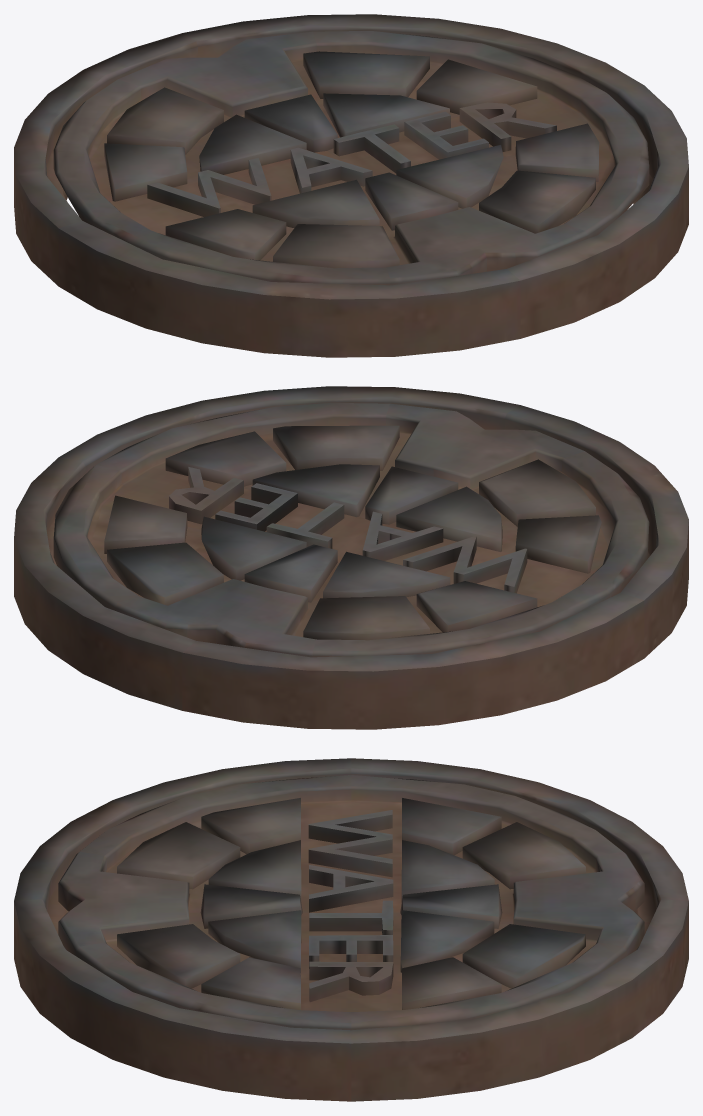
Rendered from water_manhole_cover.glb.
The picture shows the model from 3 angles, top to bottom: view 1: azimuth 30°, elevation 25°; view 2: azimuth 150°, elevation 25°; view 3: azimuth 270°, elevation 25°; orthographic projection.
Parts seen in each view (by area): view 1: water_manhole_cover_frame; view 2: water_manhole_cover_frame; view 3: water_manhole_cover_frame.
Part boxes in pixels (x1=…): water_manhole_cover_frame: x1=14, y1=14, x2=688, y2=357; water_manhole_cover_frame: x1=14, y1=386, x2=688, y2=729; water_manhole_cover_frame: x1=14, y1=758, x2=688, y2=1101.
Size of the model in its own units: 0.6908 by 0.0676 by 0.6908.
Materials: 1 (1 with a texture image).
